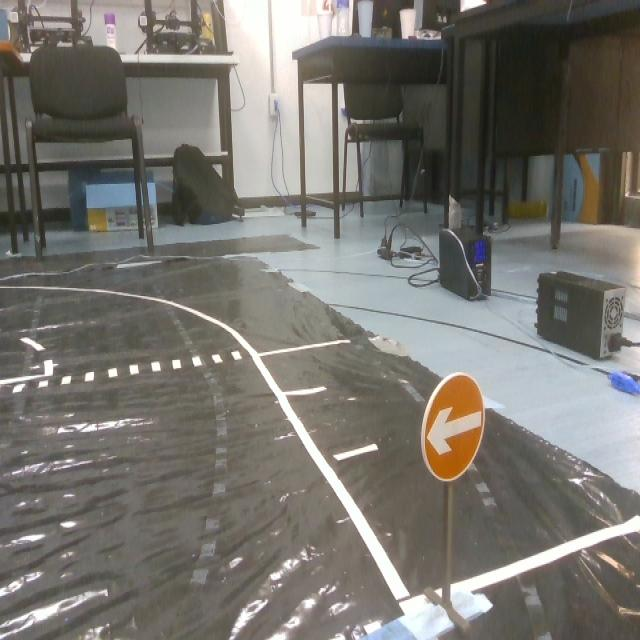forward: (412, 373, 499, 487)
